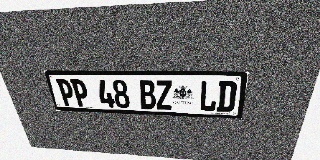4: (96, 79, 116, 108)
8: (111, 80, 130, 108)
B: (138, 80, 156, 109)
D: (216, 81, 238, 112)
L: (199, 81, 218, 112)
P: (56, 79, 77, 106), (70, 79, 90, 107)
Z: (155, 80, 172, 110)
